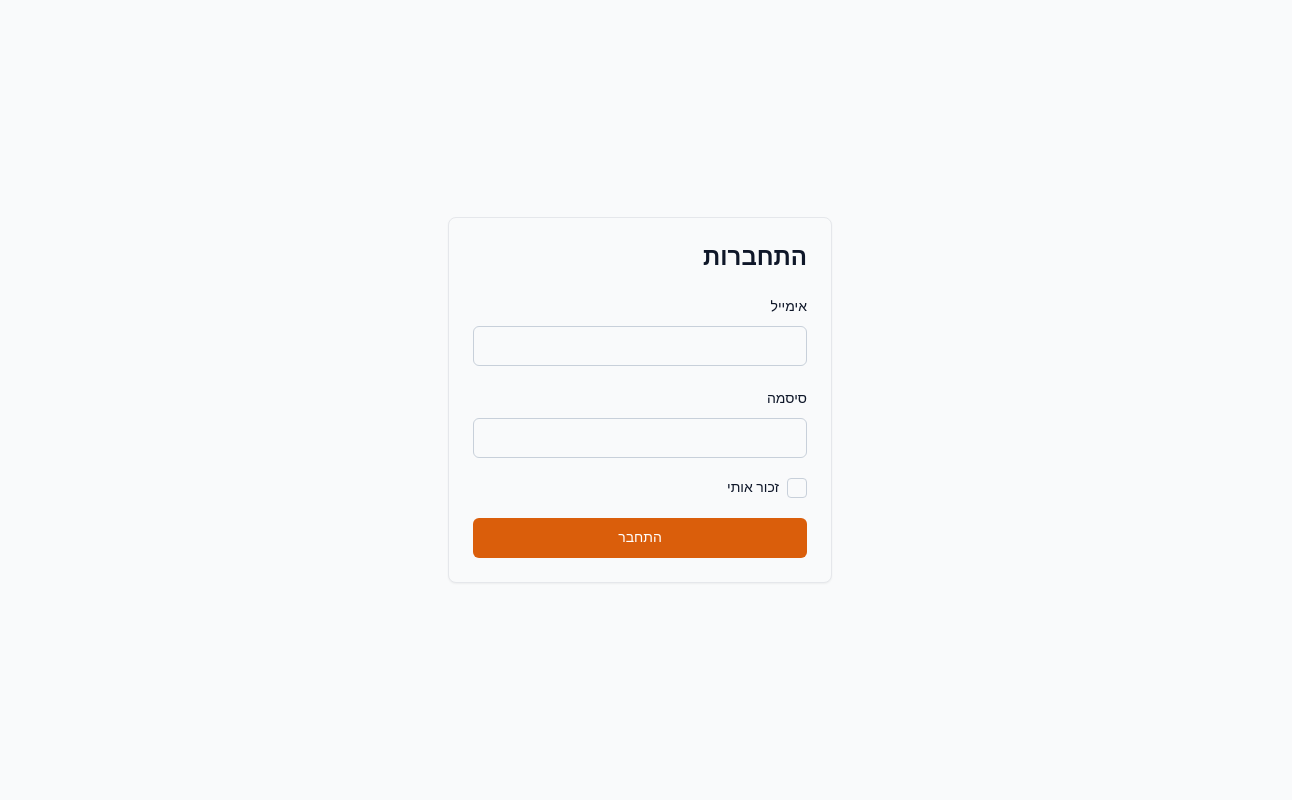
Test: S01 Login › logs driver@dev.local in and lands on /driver
Type "driver@dev.local" into the field labelled "אימייל" at {"x": 640, "y": 346}, box [473, 326, 807, 366]
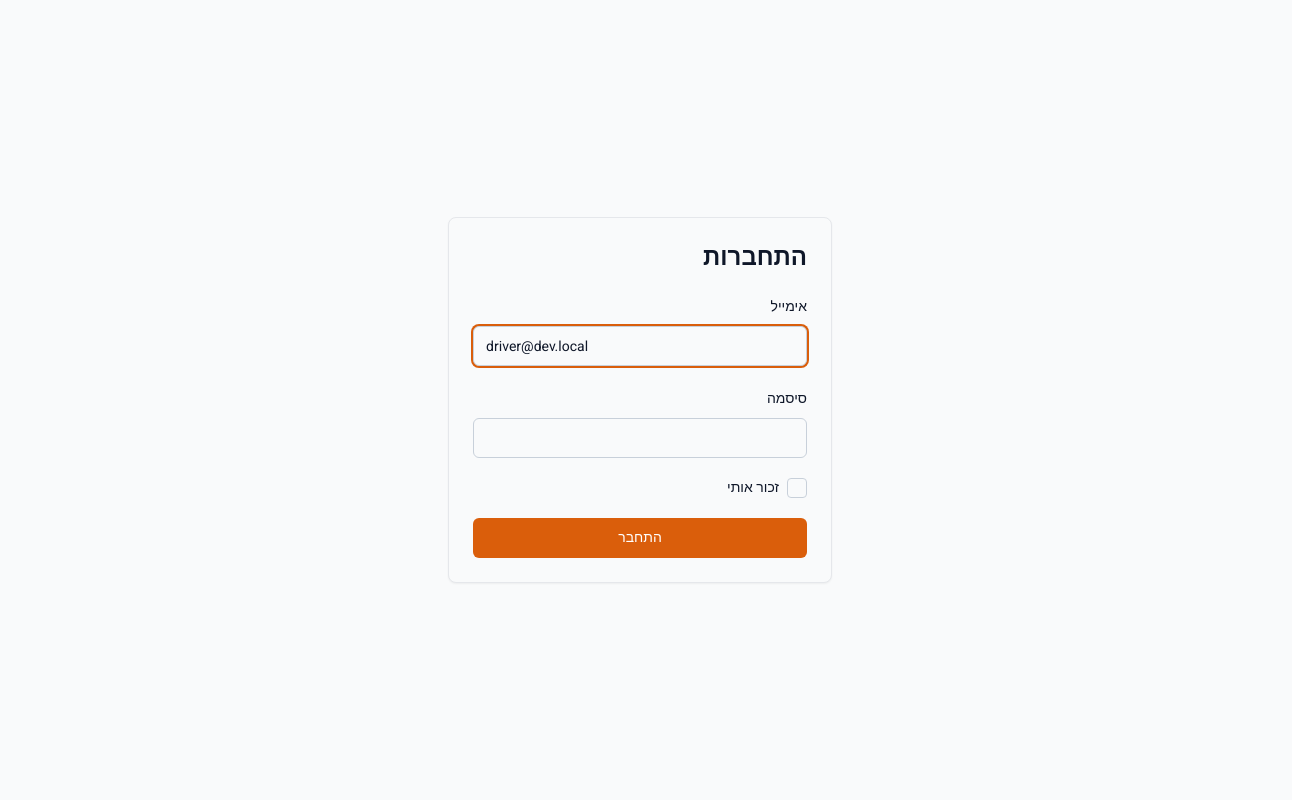
Type "Passw0rd!" into the password field labelled "סיסמה" at {"x": 640, "y": 438}, box [473, 418, 807, 458]
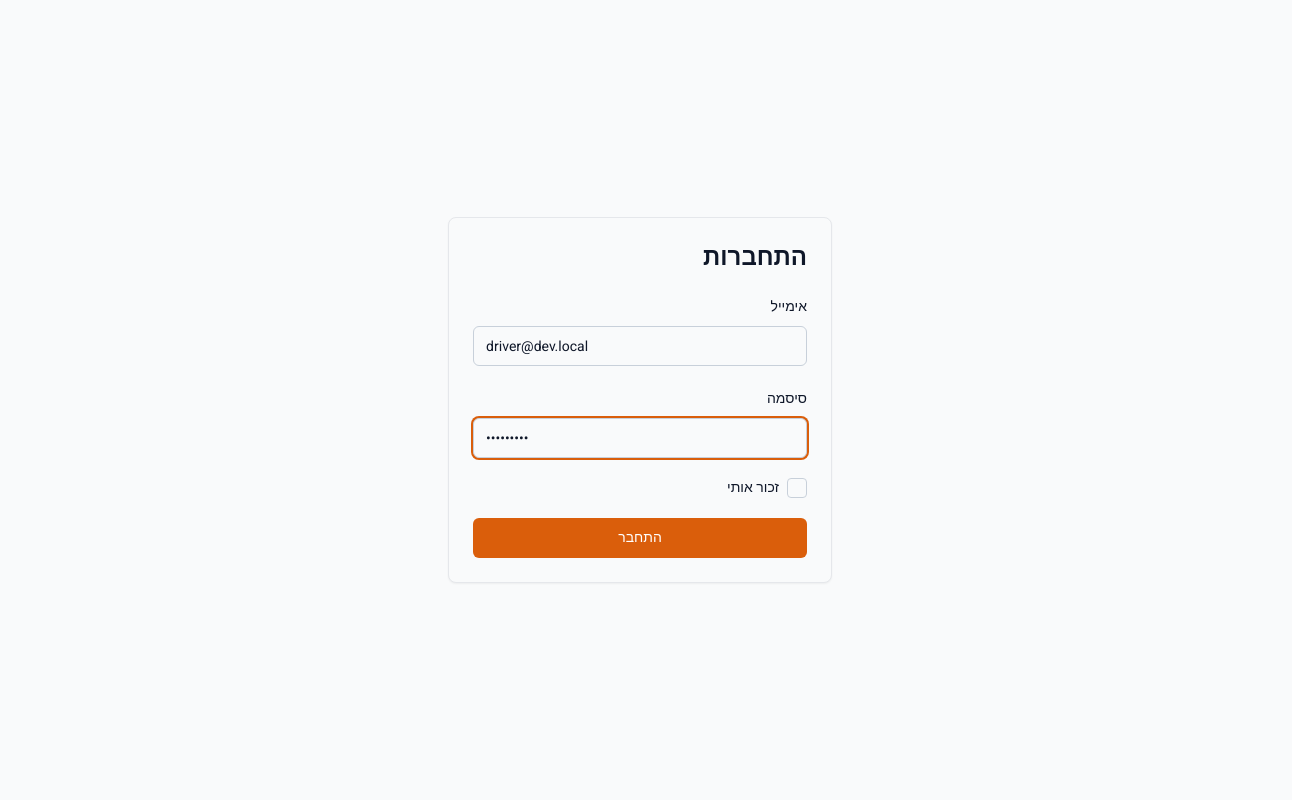
Click the button "התחבר" at {"x": 640, "y": 538}, box [473, 518, 807, 558]
(page scrolled)
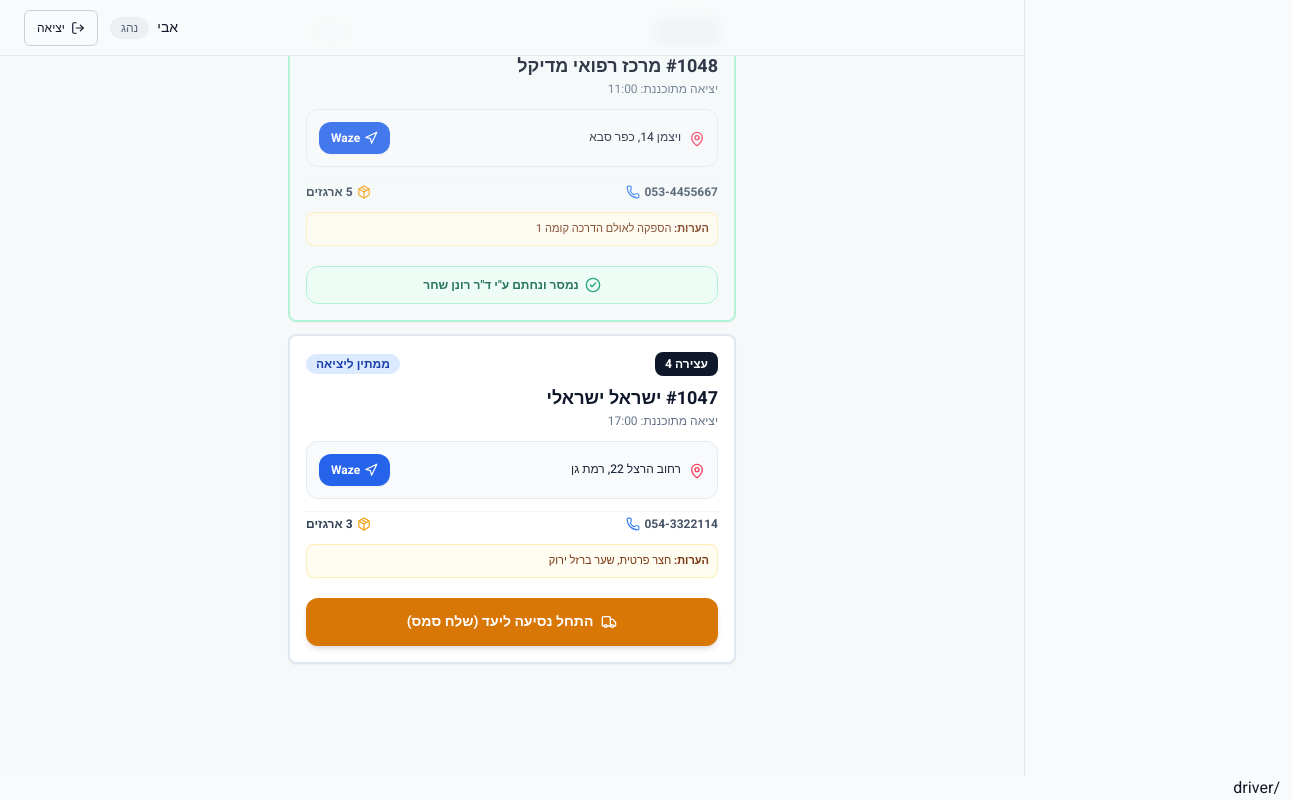
Expected: the text with test id "pathname" reads "/driver", [1233, 776, 1280, 799]
